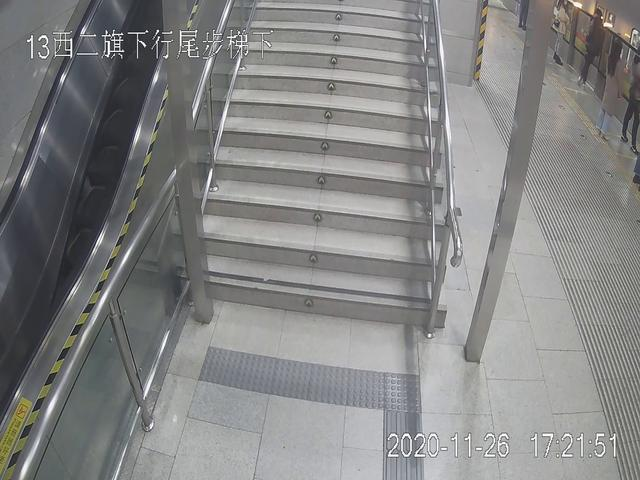person: (600, 39, 629, 144), (582, 7, 606, 85), (552, 1, 570, 67)
